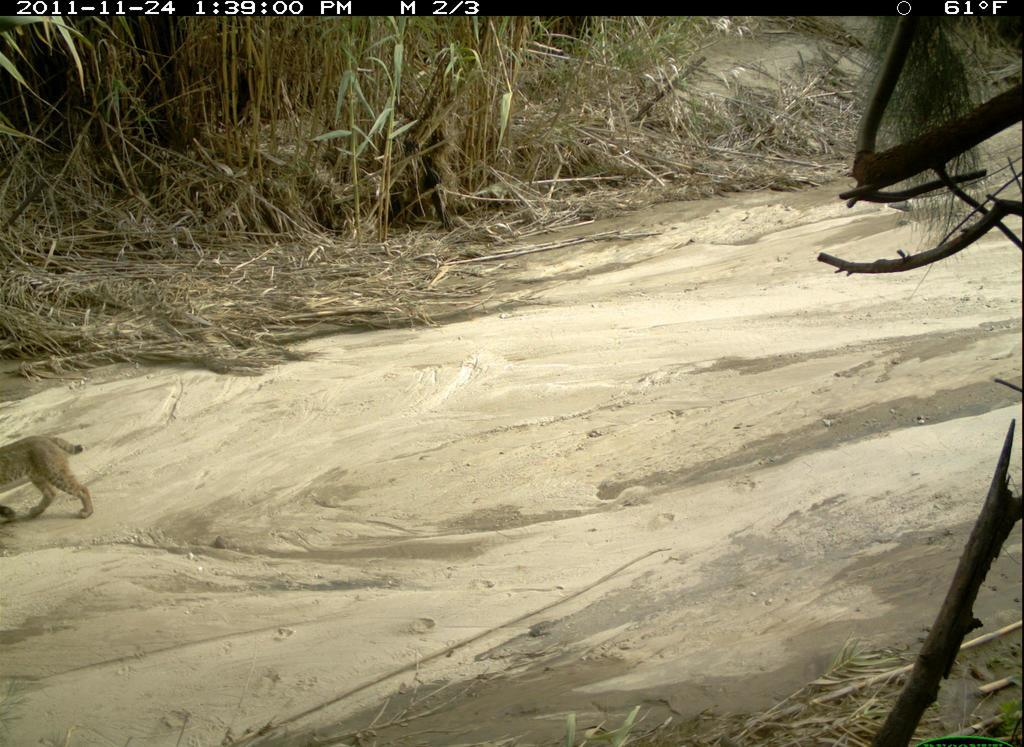bobcat: (1, 427, 111, 537)
